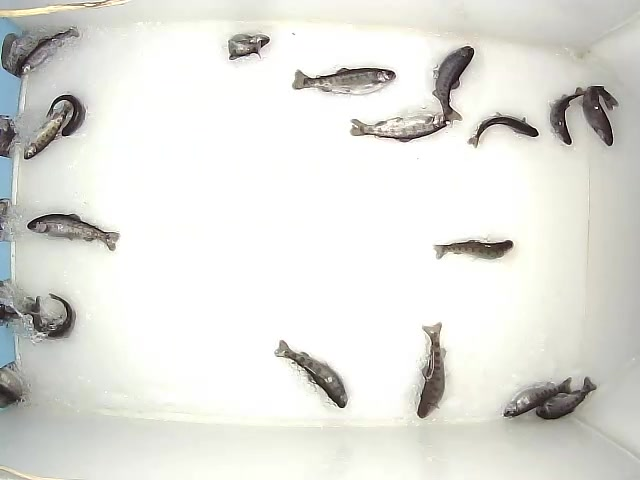fish: (272, 339, 348, 409), (26, 212, 120, 253), (432, 45, 475, 125), (291, 65, 396, 97), (415, 321, 448, 419), (349, 112, 450, 144), (17, 26, 81, 76), (22, 100, 73, 160), (502, 376, 573, 419), (535, 374, 599, 420), (466, 111, 539, 149), (577, 85, 621, 148), (546, 87, 588, 146), (431, 238, 514, 262), (46, 94, 86, 137), (45, 293, 76, 341), (227, 32, 271, 62)
